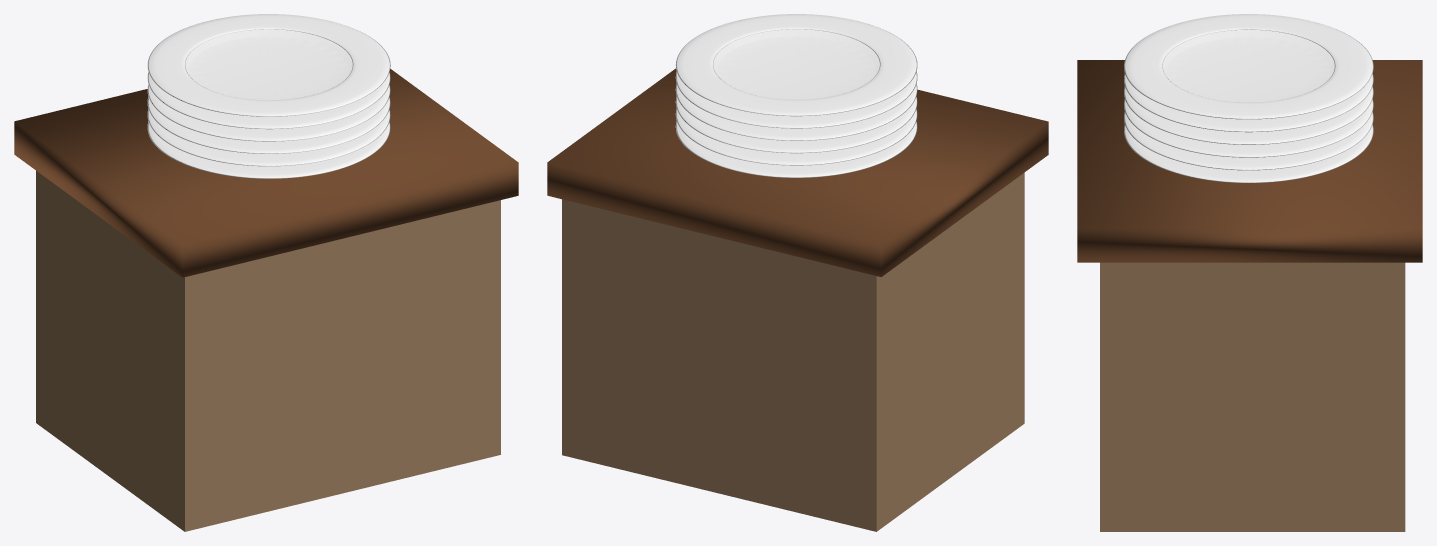
File: cube_plates.glb
The picture shows the model from 3 angles, left to right: view 1: azimuth 30°, elevation 25°; view 2: azimuth 150°, elevation 25°; view 3: azimuth 270°, elevation 25°; orthographic projection. The views are drawn at different scales.
Parts seen in each view (by area): view 1: Cube.002; view 2: Cube.002; view 3: Cube.002.
Part boxes in pixels (x1,y1,x2,y2): Cube.002: [14, 14, 518, 531]; Cube.002: [547, 14, 1048, 531]; Cube.002: [1077, 14, 1422, 531].
Size of the model in its own units: 2.61 by 2.79 by 2.26.
